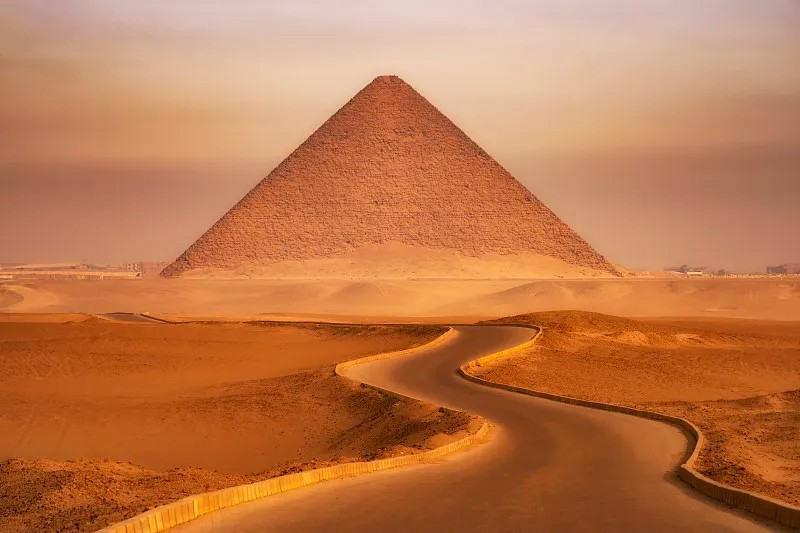Pyramid: (162, 76, 627, 278)
